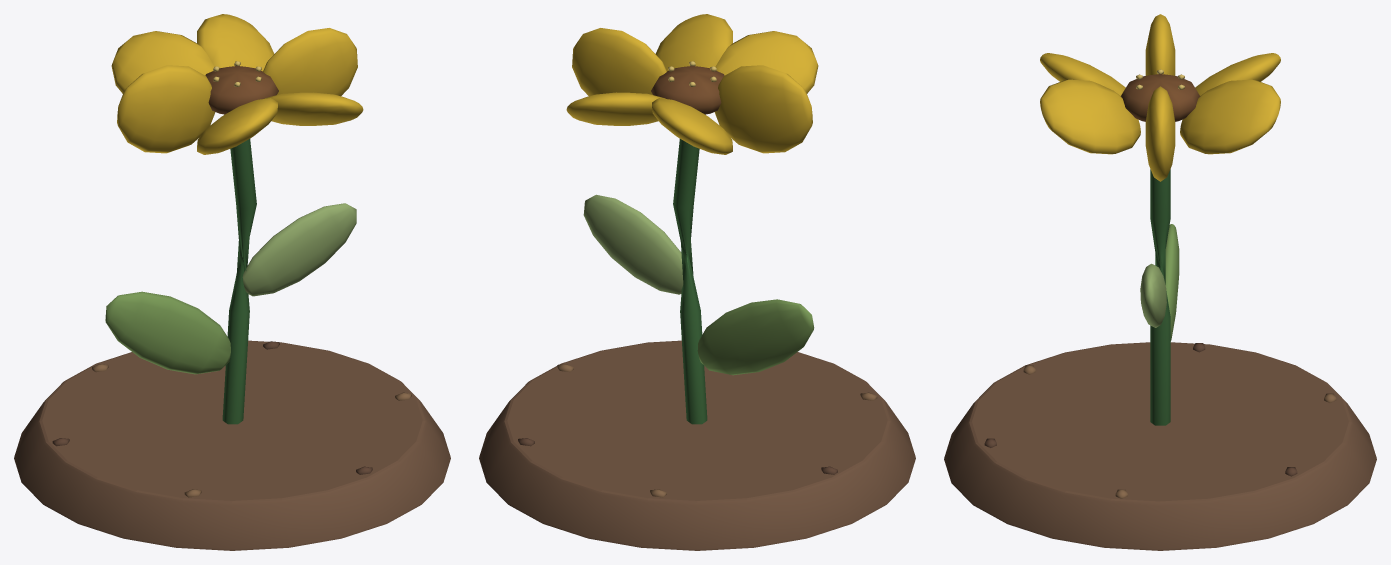
File: flower_stage3_yellow.glb
3 renders of one model, left to right at view 1: azimuth 30°, elevation 25°; view 2: azimuth 150°, elevation 25°; view 3: azimuth 270°, elevation 25°, orthographic.
Size of the model in its own units: 0.3775 by 0.391 by 0.3775.
